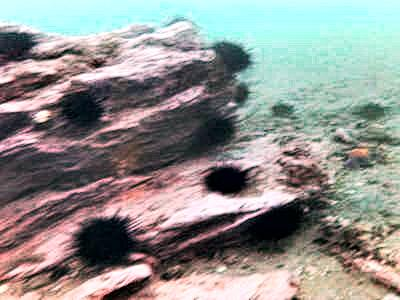urchin: (69, 207, 141, 268), (246, 204, 304, 242), (201, 163, 250, 200), (61, 91, 108, 125), (209, 38, 249, 72), (3, 28, 36, 63), (202, 113, 233, 145), (273, 99, 295, 119)
